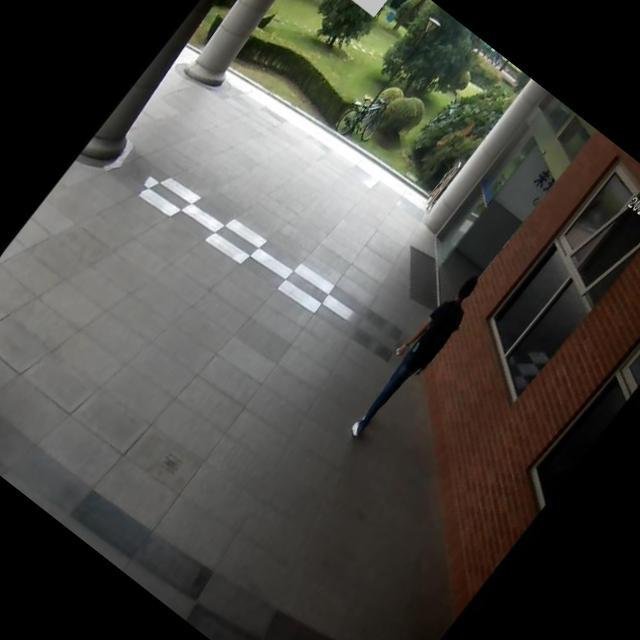person: (327, 258, 496, 459)
